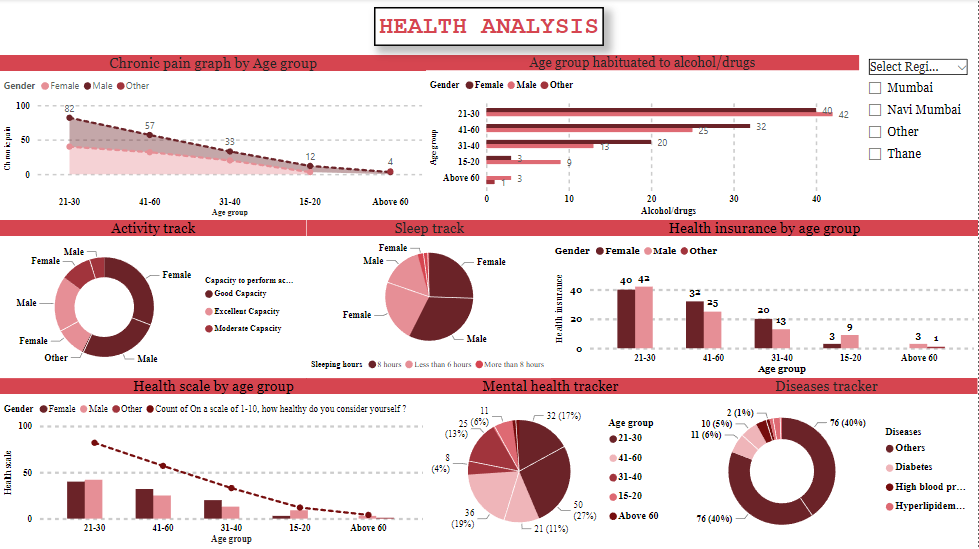

Layout of this report page (visuals, bound fields, positions):
{"tool":"powerbi","page":{"name":"Page 1","canvas":[1280,720],"ordinal":0},"visuals":[{"type":"clusteredColumnChart","title":"Health insurance by age group","fields":{"Series":["Health Analysis.Gender"],"Category":["Health Analysis.Age group"],"Y":["CountNonNull(Health Analysis.Do you have a health insurance ? )"]},"box":[721.3,289.5,558.7,206.6],"z":0},{"type":"slicer","fields":{"Values":["Health Analysis.Select your region of residence"]},"box":[1124.6,73.9,155.1,215.9],"z":1000},{"type":"lineClusteredColumnComboChart","title":"Health scale by age group","fields":{"Category":["Health Analysis.Age group"],"Series":["Health Analysis.Gender"],"Y":["CountNonNull(Health Analysis.On a scale of 1-10, how healthy do you consider yourself ?)"],"Y2":["CountNonNull(Health Analysis.On a scale of 1-10, how healthy do you consider yourself ?)"]},"box":[0,496.1,558.7,223.5],"z":2000},{"type":"stackedAreaChart","title":"Chronic pain graph by Age group ","fields":{"Category":["Health Analysis.Age group"],"Y":["CountNonNull(Health Analysis.Do you experience any chronic pain ?)"],"Series":["Health Analysis.Gender"]},"box":[0,73.4,558.3,216.1],"z":3000},{"type":"donutChart","title":"Activity track","fields":{"Category":["Health Analysis.In your opinion, at what capacity can you perform everyday activities ? "],"Series":["Health Analysis.Gender"],"Y":["CountNonNull(Health Analysis.Gender)"]},"box":[0,289.5,401.3,206.6],"z":4000},{"type":"clusteredBarChart","title":"Age group  habituated to alcohol/drugs","fields":{"Y":["CountNonNull(Health Analysis.Are you habituated to alcohol/drugs ?)"],"Series":["Health Analysis.Gender"],"Category":["Health Analysis.Age group"]},"box":[558.3,73.4,566.6,216.1],"z":5000},{"type":"pieChart","title":"Mental health tracker","fields":{"Category":["Health Analysis.Age group"],"Y":["CountNonNull(Health Analysis.Does your mental well being has an affect on your physical health ?)"],"Series":["Health Analysis.Does your mental well being has an affect on your physical health ?"]},"box":[558.3,495.9,325.5,223],"z":6000},{"type":"donutChart","title":"Diseases tracker","fields":{"Series":["Health Analysis.Gender"],"Category":["Health Analysis.Do you have any hereditary conditions/ diseases ?"],"Y":["CountNonNull(Health Analysis.Do you have any hereditary conditions/ diseases ?)"]},"box":[883.8,495.9,396.2,223],"z":7000},{"type":"pieChart","title":"Sleep track","fields":{"Category":["Health Analysis.How much hours of sleep do you get on a daily basis ? "],"Y":["CountNonNull(Health Analysis.Gender)"],"Series":["Health Analysis.Gender"]},"box":[401.3,289.5,320,206.6],"z":8000},{"type":"shape","box":[489,11.1,300.6,51.3],"z":9000}]}

Visuals, with their boxes in screenshot pixels (x1, y1, x2, y2), scaled from the page's 1280x720 canvas onto the 979x549 screenshot:
"Health insurance by age group" clusteredColumnChart: [552,221,978,378]
slicer - Health Analysis.Select your region of residence: [860,56,978,221]
"Health scale by age group" lineClusteredColumnComboChart: [0,378,427,548]
"Chronic pain graph by Age group " stackedAreaChart: [0,56,427,221]
"Activity track" donutChart: [0,221,307,378]
"Age group  habituated to alcohol/drugs" clusteredBarChart: [427,56,860,221]
"Mental health tracker" pieChart: [427,378,676,548]
"Diseases tracker" donutChart: [676,378,978,548]
"Sleep track" pieChart: [307,221,552,378]
shape: [374,8,604,48]
